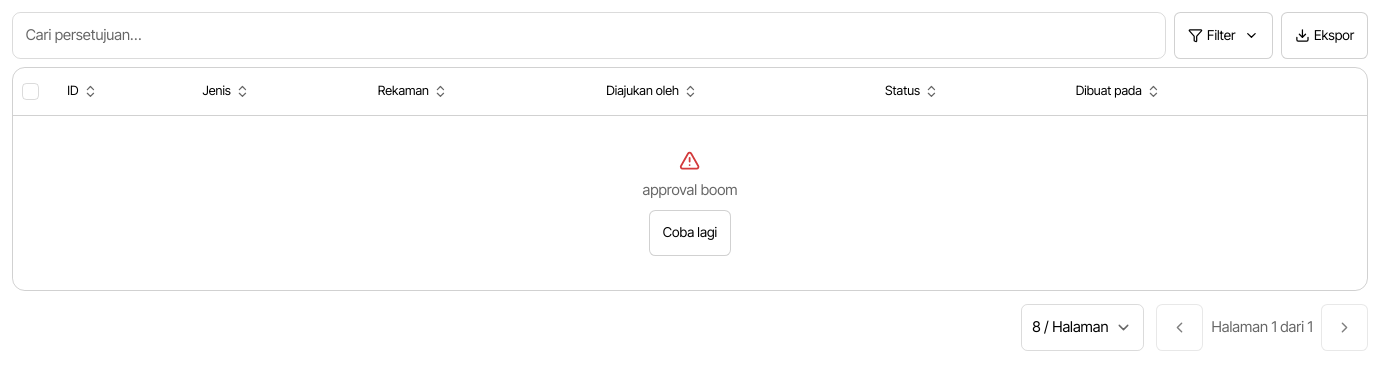
Scenario: ApprovalRequestsSection › shows the error state with retry and refetches
Expected: the text "approval boom" is shown, [642,180,738,201]
Click the button "Coba lagi": (690, 233) [649,210,731,256]
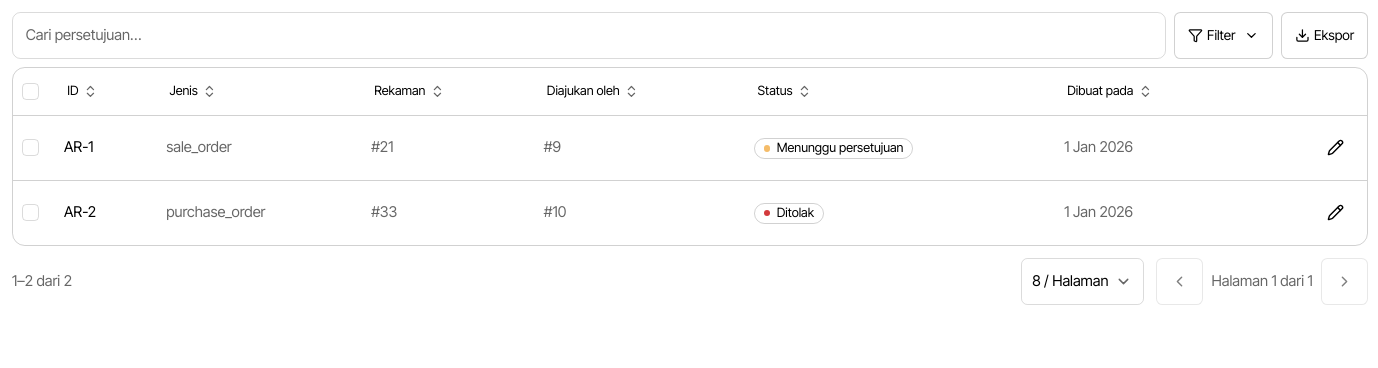
Expected: the link "AR-1" is shown, [64,138,94,156]
